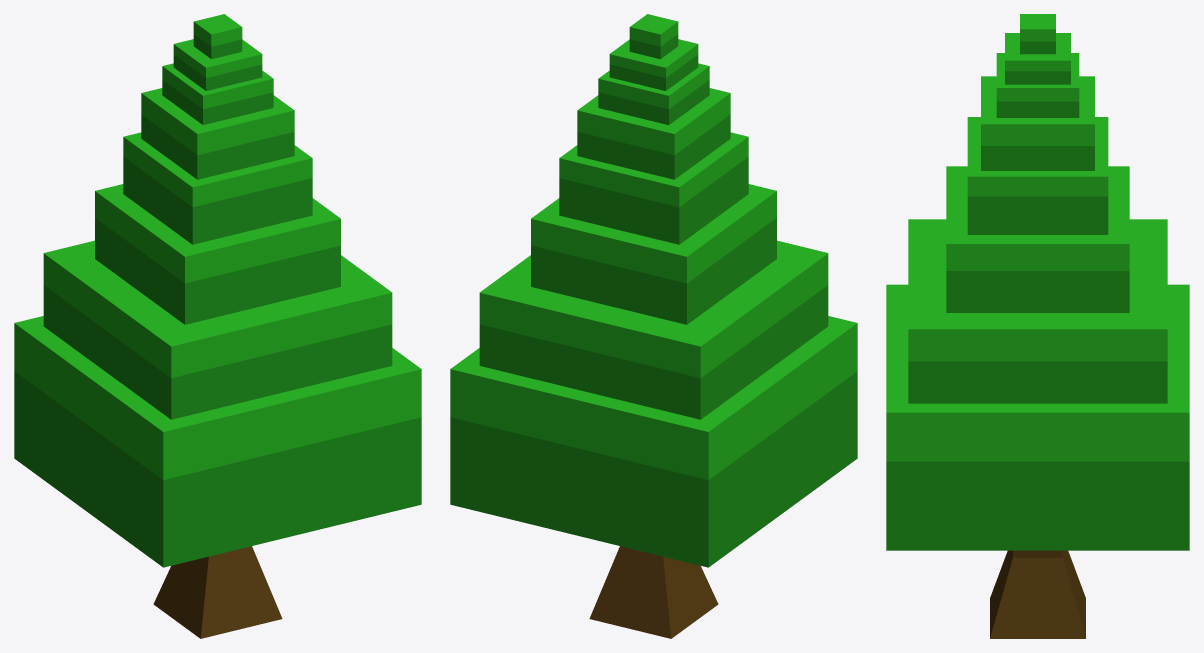
The model's file is tree05.glb.
3 renders of one model, left to right at view 1: azimuth 30°, elevation 25°; view 2: azimuth 150°, elevation 25°; view 3: azimuth 270°, elevation 25°, orthographic.
Parts seen in each view (by area): view 1: evergreen2(small).006_spring_0; view 2: evergreen2(small).006_spring_0; view 3: evergreen2(small).006_spring_0.
Part boxes in pixels (x1,y1,x2,y2): evergreen2(small).006_spring_0: [14, 14, 421, 638]; evergreen2(small).006_spring_0: [450, 14, 857, 638]; evergreen2(small).006_spring_0: [886, 14, 1189, 638].
Bounding box in the file's own units: 14.53 × 31.58 × 14.53.
Materials: 1 (1 with a texture image).
